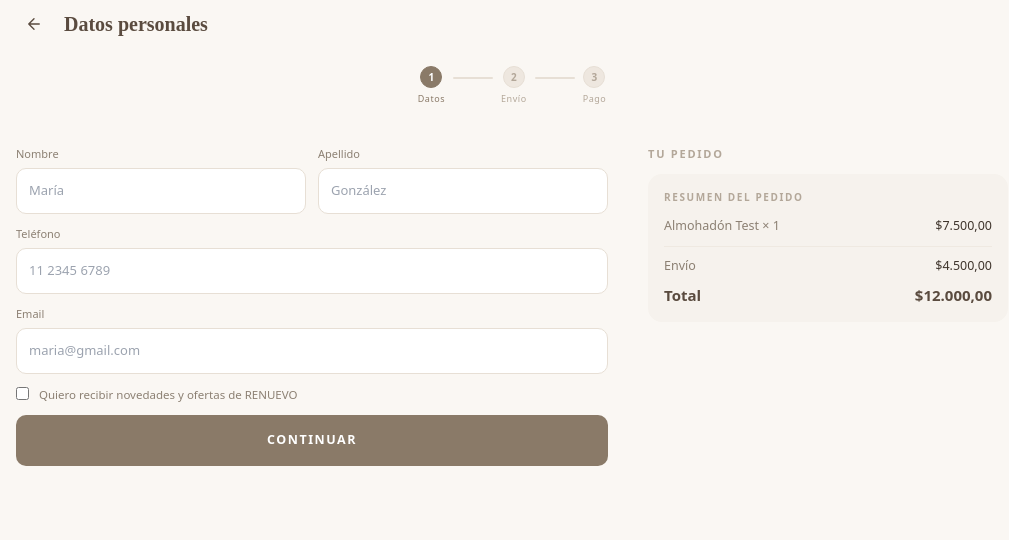
Test case: CheckoutPage › muestra errores de validación al enviar el paso 1 vacío
Step 1. Click the button "Continuar" → [312, 440], box [16,415,608,466]
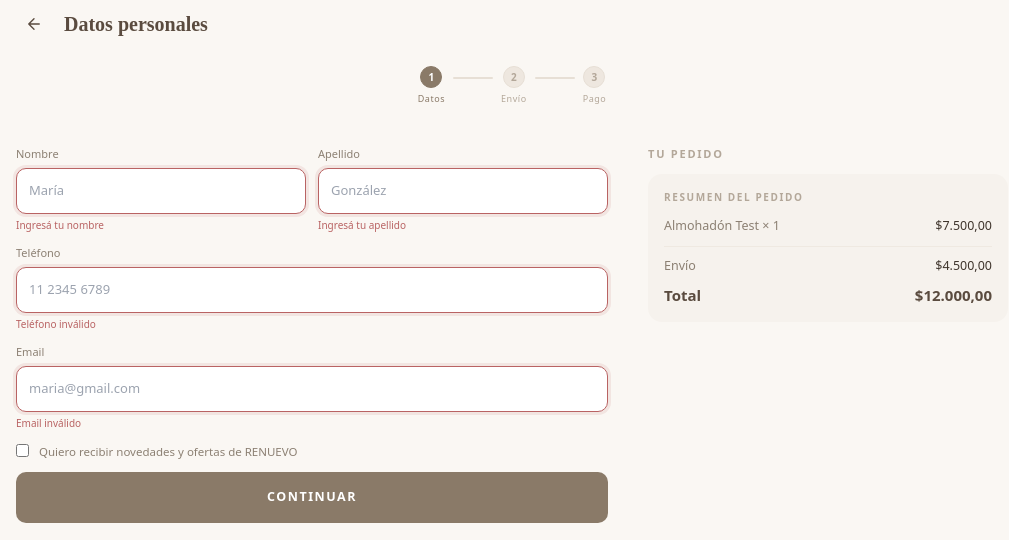
Expected: the message "Ingresá tu nombre" is shown, [16,218,104,232]
